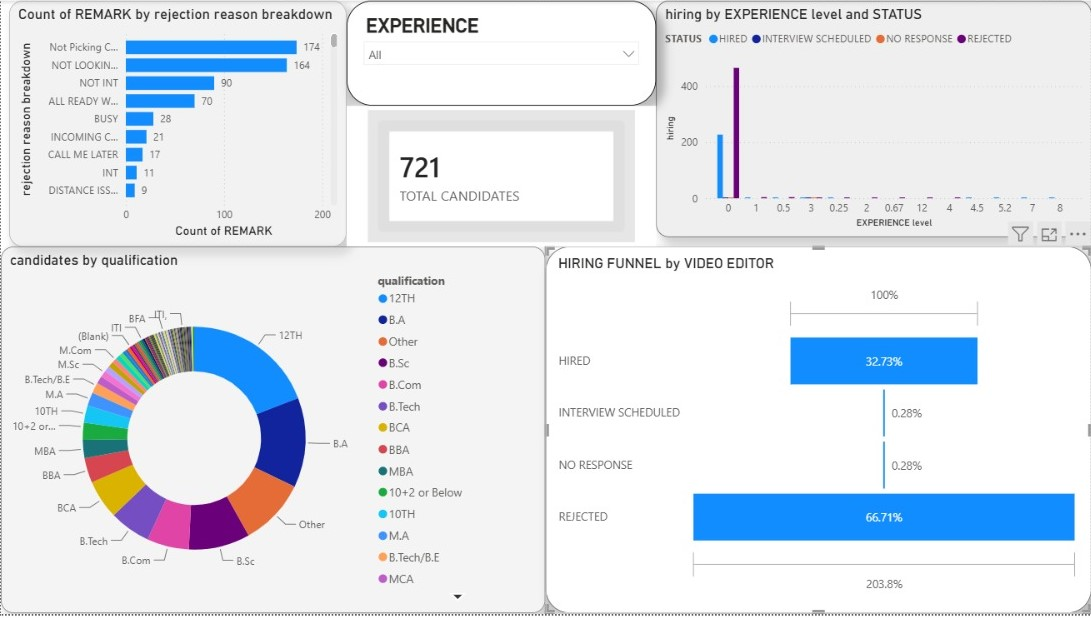

Layout of this report page (visuals, bound fields, positions):
{"tool":"powerbi","page":{"name":"Hiring Insight","canvas":[1280,720],"ordinal":0},"visuals":[{"type":"clusteredBarChart","fields":{"Category":["Video editor_29 12 25.REMARK"],"Y":["CountNonNull(Video editor_29 12 25.REMARK)"]},"box":[9.8,0,396.2,288.6],"z":0},{"type":"donutChart","fields":{"Category":["Video editor_29 12 25.QUALIFICATION"],"Y":["CountNonNull(Video editor_29 12 25.NAME)"]},"box":[0,288.6,639.5,430.4],"z":1000},{"type":"clusteredColumnChart","fields":{"Category":["Video editor_29 12 25.EXPERIENCE"],"Series":["Video editor_29 12 25.STATUS"],"Y":["CountNonNull(Video editor_29 12 25.NAME)"]},"box":[769.2,0,511.1,277.6],"z":2000},{"type":"funnel","fields":{"Category":["Video editor_29 12 25.STATUS"],"Y":["CountNonNull(Video editor_29 12 25.REMARK)"]},"box":[639.5,288.6,640.8,430.4],"z":2001},{"type":"slicer","fields":{"Values":["Video editor_29 12 25.EXPERIENCE"]},"box":[406,0,363.2,123.5],"z":2002},{"type":"cardVisual","fields":{"Data":["CountNonNull(Video editor_29 12 25.NAME)"]},"box":[406,123.5,363.2,165.1],"z":2003}]}

Visuals, with their boxes in screenshot pixels (x1, y1, x2, y2), scaled from the page's 1280x720 canvas onto the 1091x618 screenshot:
clusteredBarChart - Video editor_29 12 25.REMARK x CountNonNull(Video editor_29 12 25.REMARK): bbox(8, 0, 346, 248)
donutChart - Video editor_29 12 25.QUALIFICATION x CountNonNull(Video editor_29 12 25.NAME): bbox(0, 248, 545, 617)
clusteredColumnChart - Video editor_29 12 25.EXPERIENCE x Video editor_29 12 25.STATUS: bbox(656, 0, 1090, 238)
funnel - Video editor_29 12 25.STATUS x CountNonNull(Video editor_29 12 25.REMARK): bbox(545, 248, 1090, 617)
slicer - Video editor_29 12 25.EXPERIENCE: bbox(346, 0, 656, 106)
cardVisual - CountNonNull(Video editor_29 12 25.NAME): bbox(346, 106, 656, 248)
